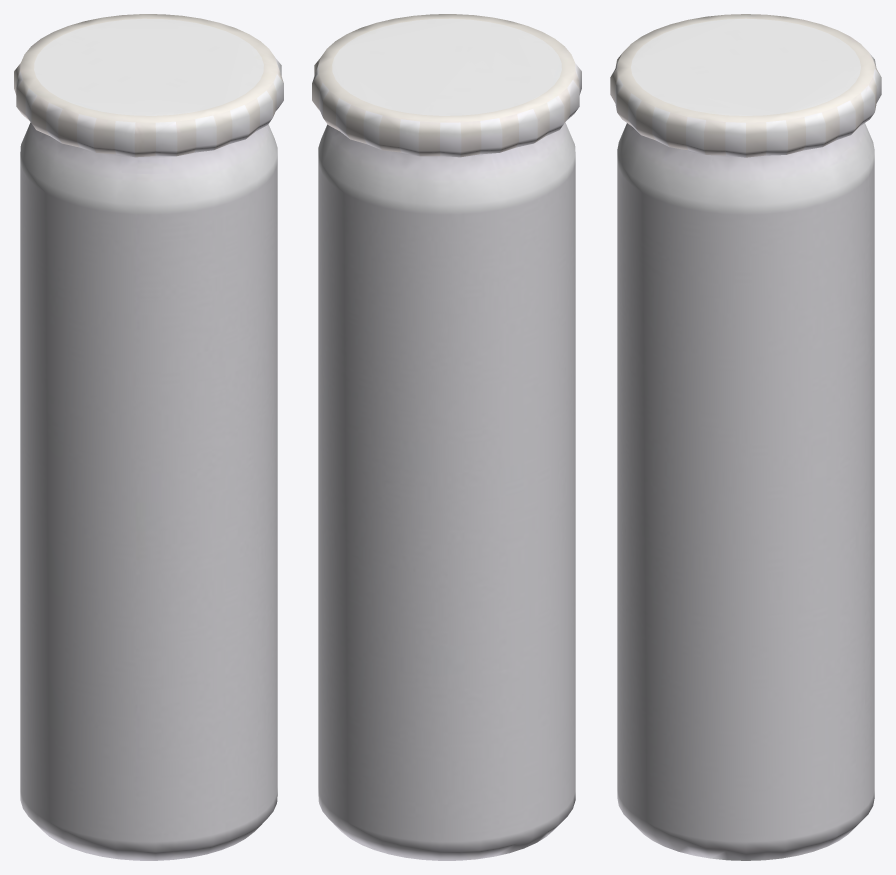
Rendered from kav2_3.glb.
The picture shows the model from 3 angles, left to right: view 1: azimuth 30°, elevation 25°; view 2: azimuth 150°, elevation 25°; view 3: azimuth 270°, elevation 25°; orthographic projection.
Parts seen in each view (by area): view 1: kav2_3; view 2: kav2_3; view 3: kav2_3.
Part boxes in pixels (left/top/right/bottom): kav2_3: left=14, top=14, right=283, bottom=860; kav2_3: left=312, top=14, right=581, bottom=860; kav2_3: left=610, top=14, right=881, bottom=860.
Bounding box in the file's own units: 1.53 × 4.65 × 1.53.
Materials: 1 (1 with a texture image).
